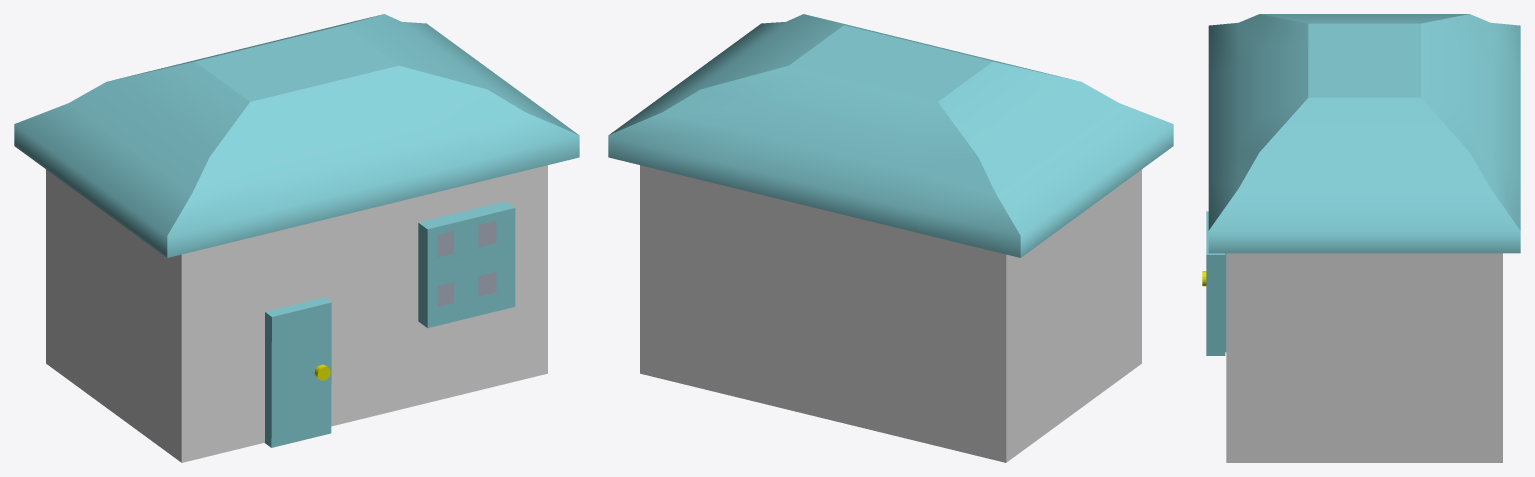
File: HouseForGlutamine.fbx
The picture shows the model from 3 angles, left to right: view 1: azimuth 30°, elevation 25°; view 2: azimuth 150°, elevation 25°; view 3: azimuth 270°, elevation 25°; orthographic projection. The views are drawn at different scales.
Visible parts, largest first — view 1: pasted__pCube1, pCube1, pCube3, pCube2; view 2: pasted__pCube1, pCube1; view 3: pCube1, pasted__pCube1, pCube3.
Boxes of the visible parts, x1,y1,x2,y2 form: pasted__pCube1: [46, 165, 547, 462]; pCube1: [14, 14, 579, 257]; pCube3: [418, 201, 515, 328]; pCube2: [264, 297, 331, 447]; pasted__pCube1: [640, 165, 1141, 462]; pCube1: [608, 14, 1173, 257]; pCube1: [1208, 14, 1520, 253]; pasted__pCube1: [1226, 253, 1502, 462]; pCube3: [1206, 211, 1225, 355].
Bounding box in the file's own units: 9.44 × 6.68 × 6.18.
